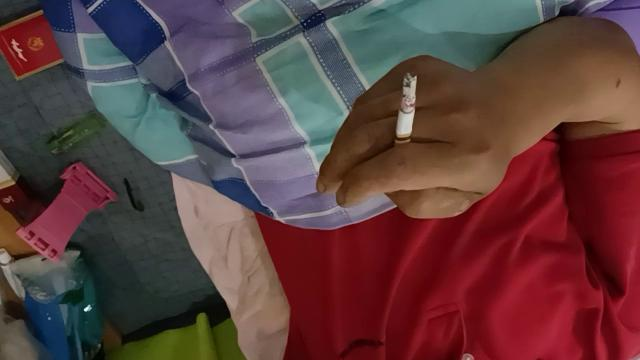Cigarette: (392, 72, 418, 166)
